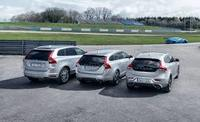car: (127, 52, 181, 89), (22, 45, 77, 80), (78, 50, 127, 84)
